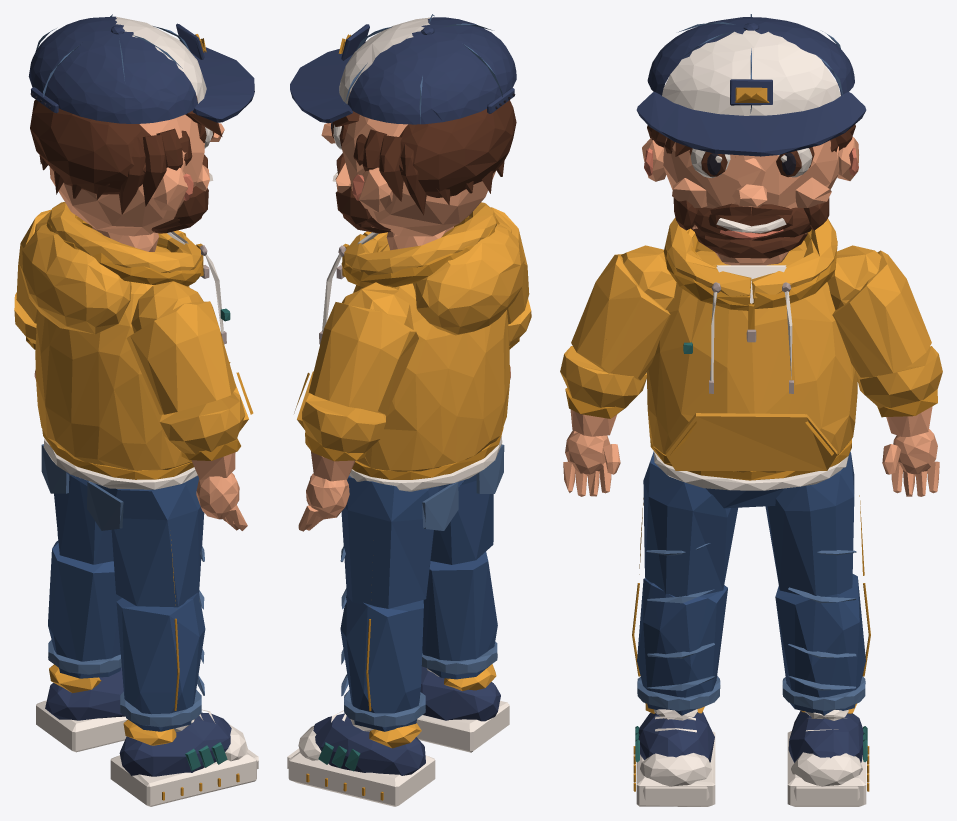
Rendered from npc.civilian-man-b.lod1.glb.
3 views of the same model, side by side, from view 1: azimuth 30°, elevation 25°; view 2: azimuth 150°, elevation 25°; view 3: azimuth 270°, elevation 25° (orthographic).
Parts seen in each view (by area): view 1: head, torso, shinR, armR, legR, footR, shinL, footL, foreArmR, legL, hip, handR (+2 smaller); view 2: head, torso, armL, legL, shinL, footL, shinR, footR, foreArmL, legR, hip, handL (+2 smaller); view 3: torso, head, shinL, shinR, legR, armL, armR, legL, footR, footL, foreArmL, foreArmR (+3 smaller).
Part boxes in pixels (<box>): head: <box>28,14,254,251</box>; torso: <box>19,202,253,489</box>; shinR: <box>116,590,205,731</box>; armR: <box>126,281,236,414</box>; legR: <box>107,475,204,607</box>; footR: <box>110,709,258,806</box>; shinL: <box>48,540,121,678</box>; footL: <box>36,664,127,752</box>; foreArmR: <box>160,391,245,479</box>; legL: <box>54,475,113,564</box>; hip: <box>41,444,123,530</box>; handR: <box>196,473,247,530</box>; head: <box>290,14,516,250</box>; torso: <box>294,202,524,491</box>; armL: <box>308,282,418,414</box>; legL: <box>340,475,438,608</box>; shinL: <box>340,588,425,731</box>; footL: <box>287,710,435,806</box>; shinR: <box>421,552,497,679</box>; footR: <box>416,664,509,752</box>; foreArmL: <box>302,393,385,481</box>; legR: <box>430,474,493,564</box>; hip: <box>422,444,504,530</box>; handL: <box>298,473,349,531</box>; torso: <box>647,217,857,490</box>; head: <box>636,14,866,265</box>; shinL: <box>775,574,870,715</box>; shinR: <box>632,578,727,715</box>; legR: <box>639,451,737,596</box>; armL: <box>827,245,931,377</box>; armR: <box>571,245,676,380</box>; legL: <box>765,452,864,596</box>; footR: <box>633,703,715,806</box>; footL: <box>787,703,869,806</box>; foreArmL: <box>856,346,942,436</box>; foreArmR: <box>560,346,646,436</box>.
Bounding box in the file's own units: 0.5255 × 1.8 × 0.8383.
